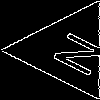N: (41, 25, 100, 79)
